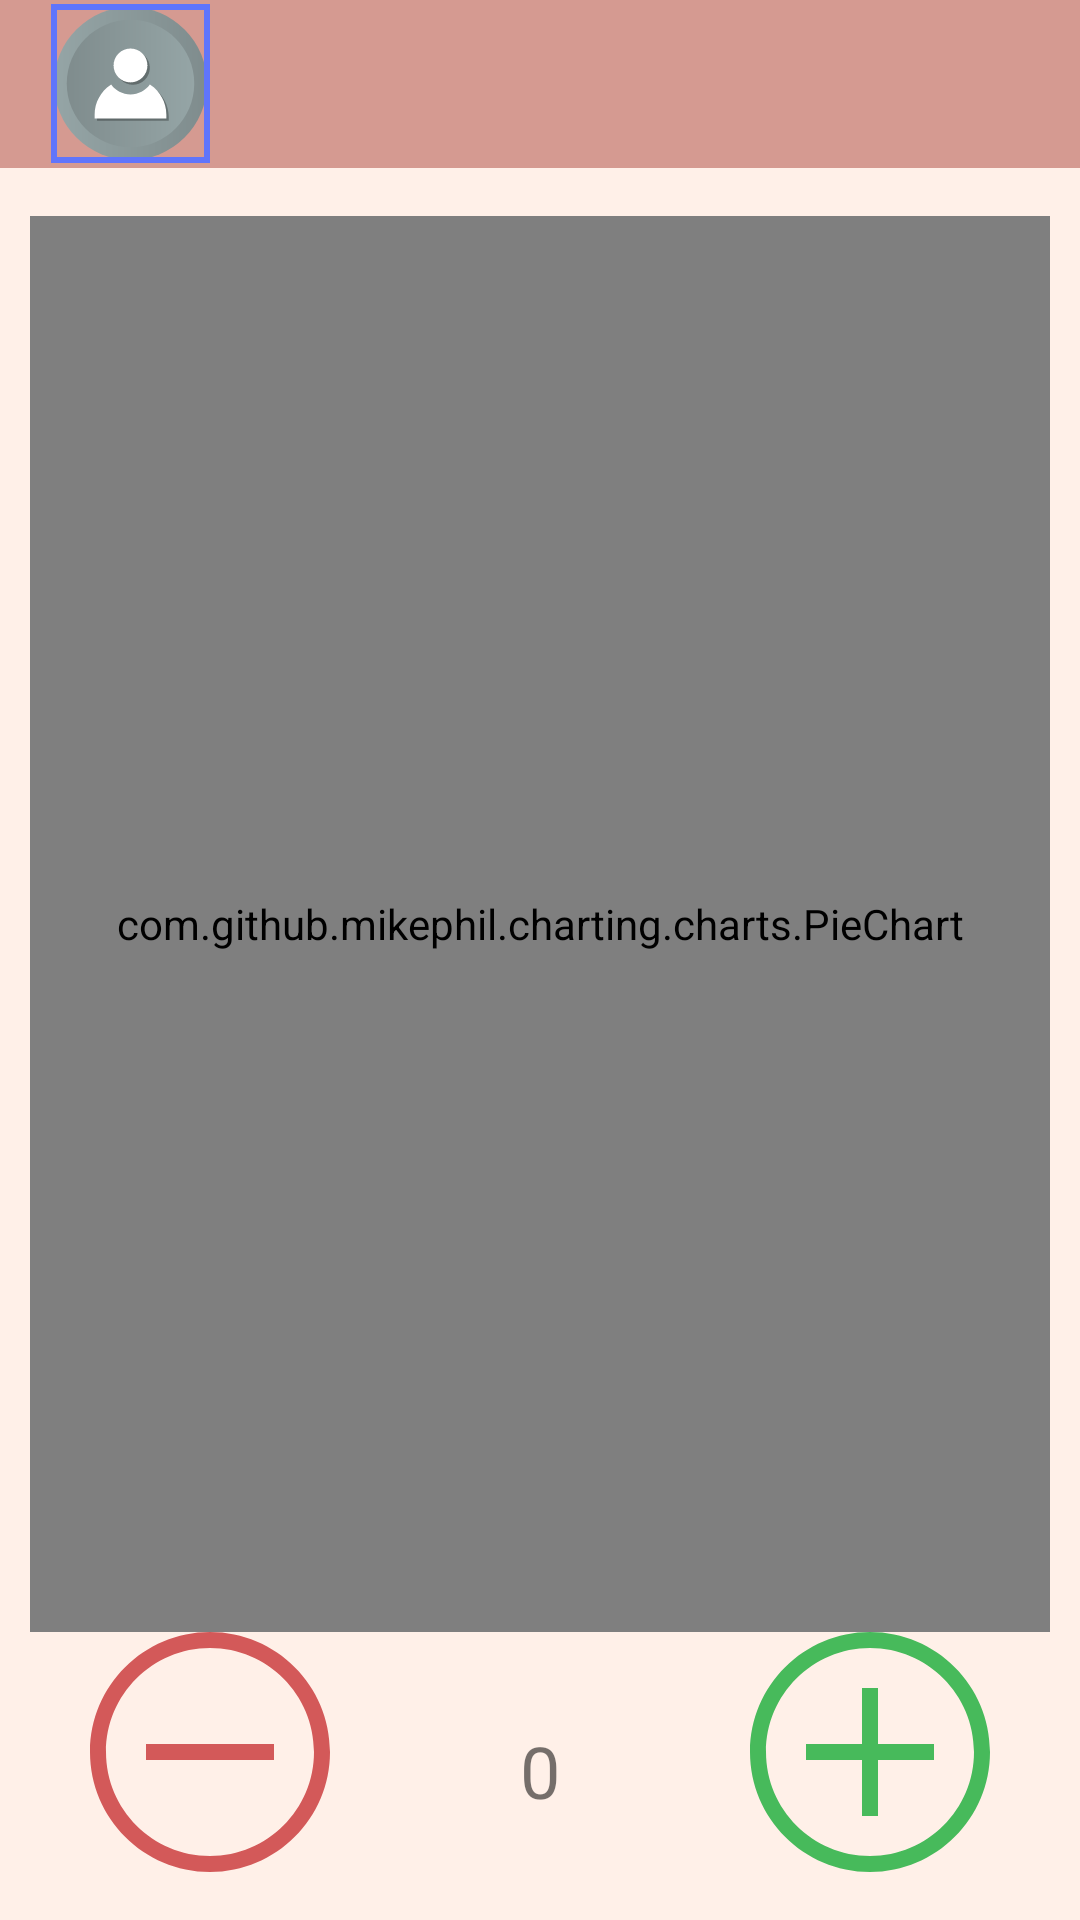

Icons on this 1080w x 1920h Android screen, each with its box as (x1, y1, x2, y2):
minus: (90, 1632, 330, 1872)
plus: (750, 1632, 990, 1872)
